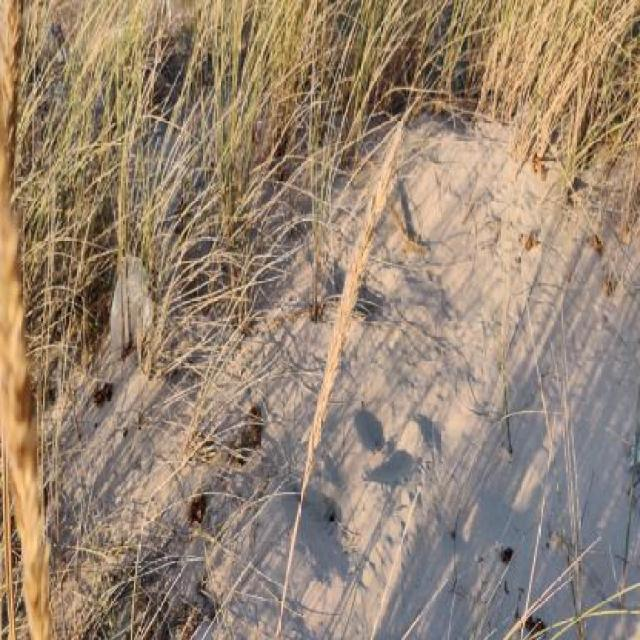plastic: (111, 256, 154, 362)
